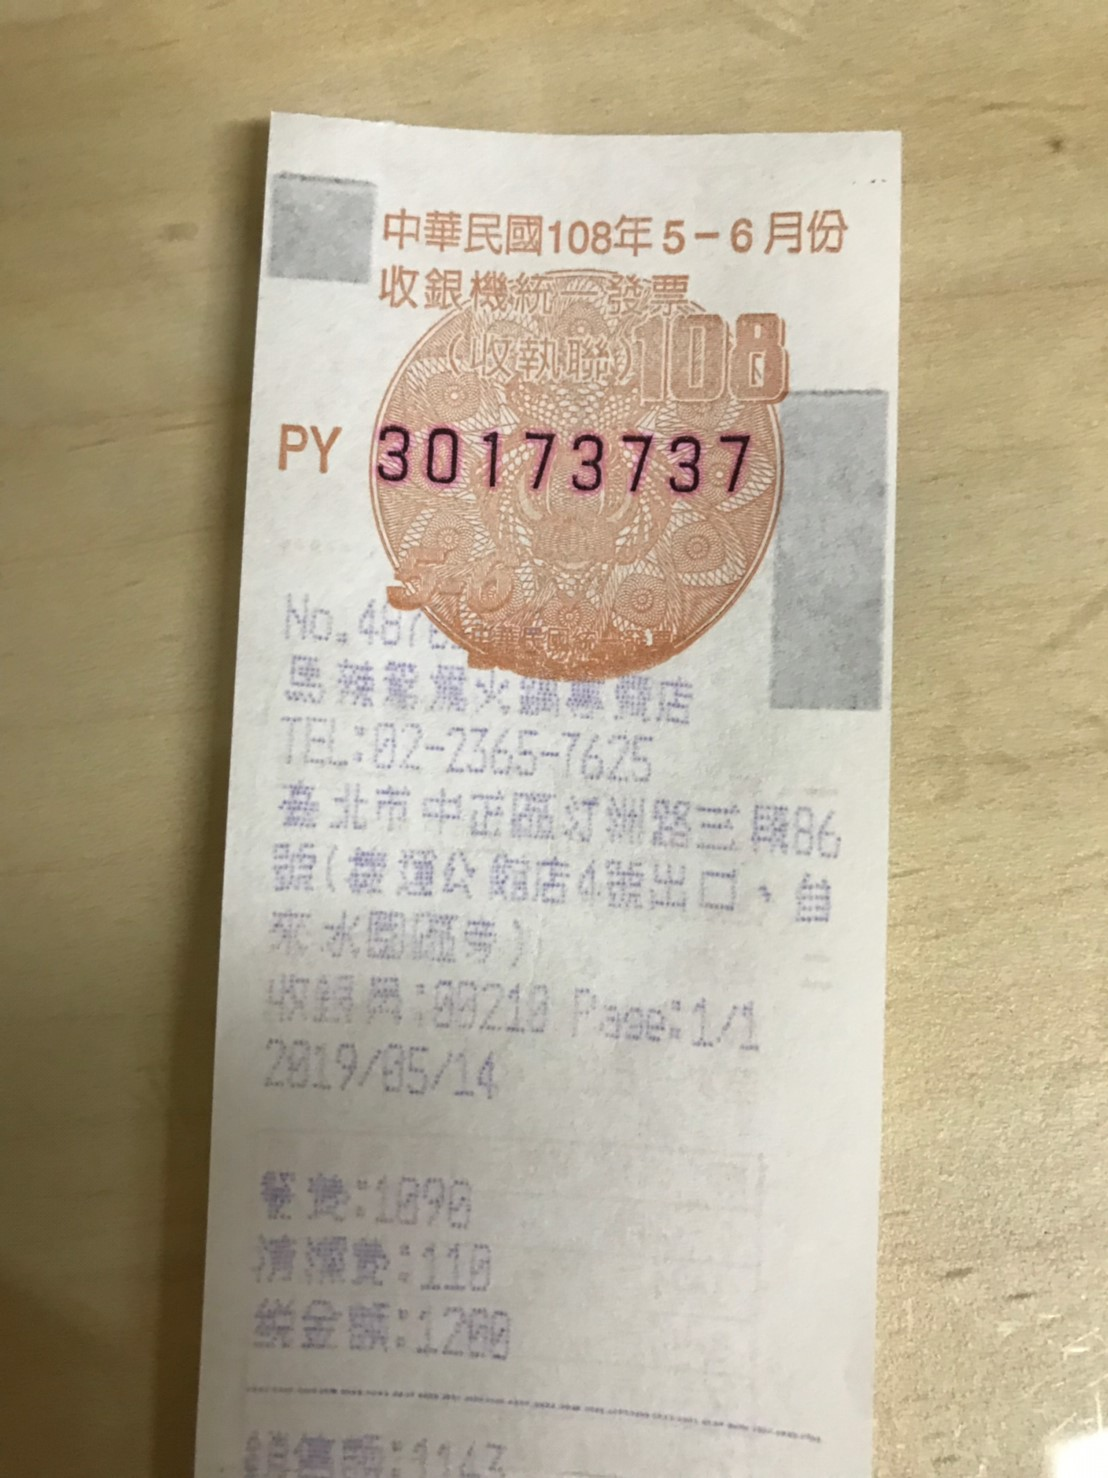Date_Old: (545, 208, 852, 265)
Number_Old: (376, 415, 759, 498)
